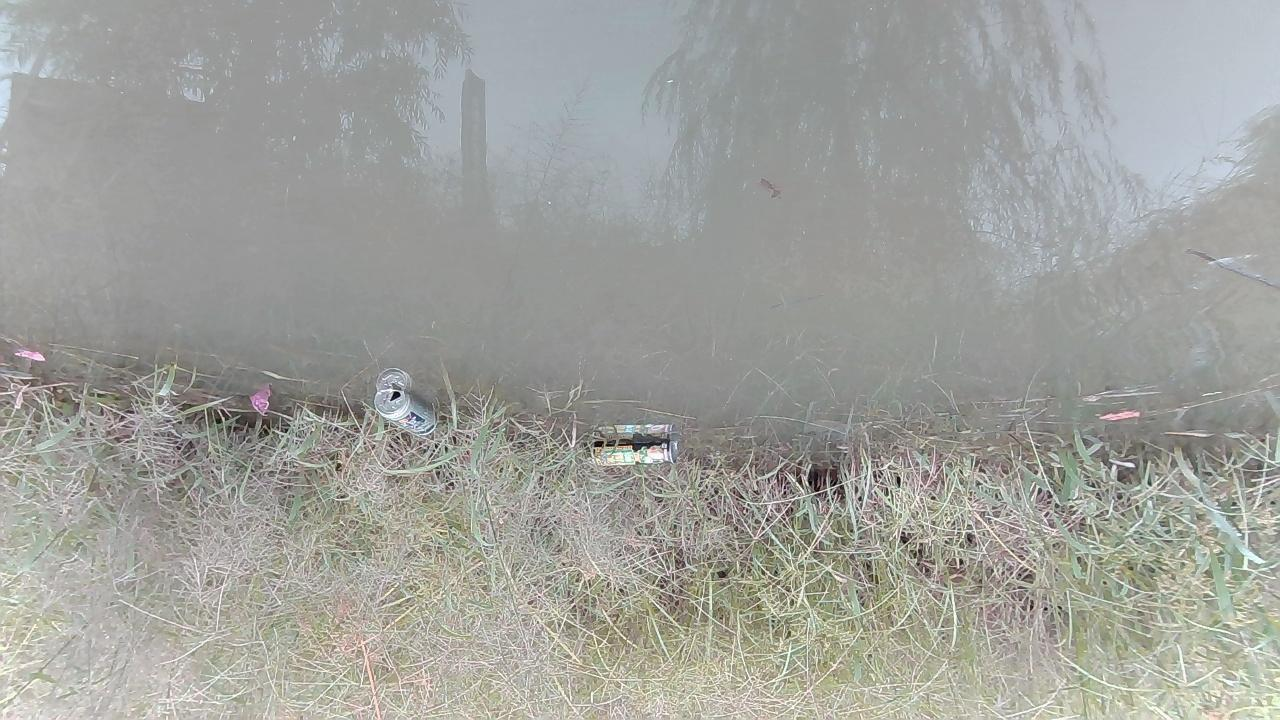Metal: (591, 439, 680, 469)
Plastic: (373, 386, 440, 436), (247, 385, 273, 418)
